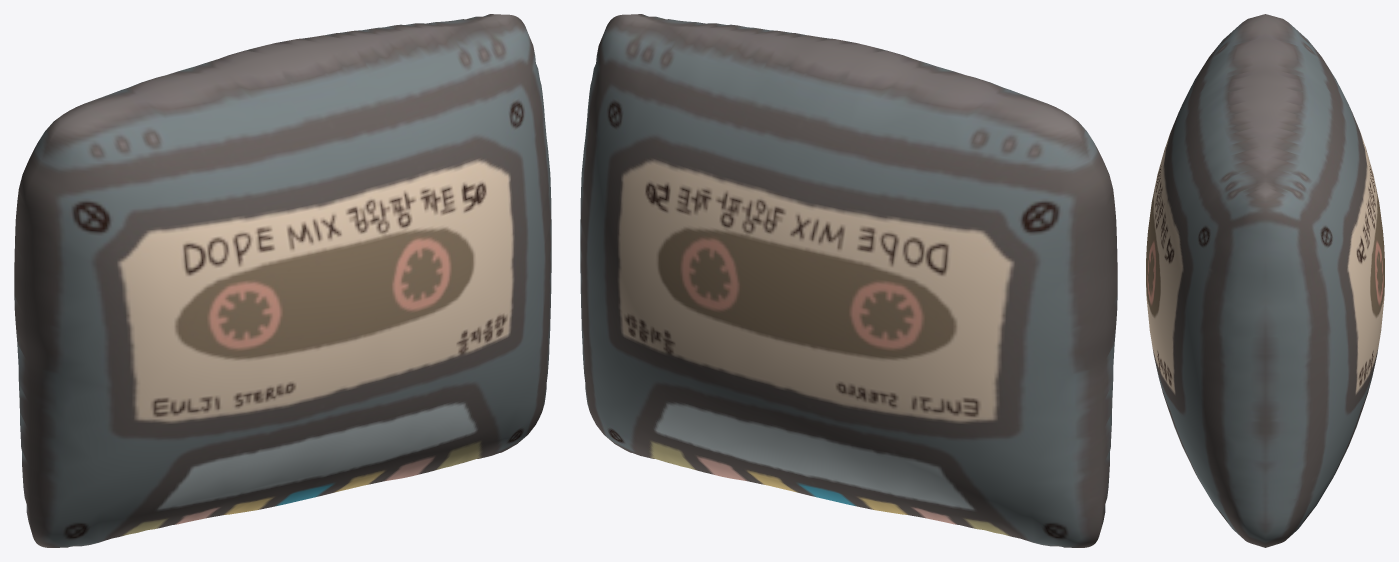
Rendered from tape.glb.
3 renders of one model, left to right at view 1: azimuth 30°, elevation 25°; view 2: azimuth 150°, elevation 25°; view 3: azimuth 270°, elevation 25°, orthographic. The views are drawn at different scales.
Parts seen in each view (by area): view 1: Mesh_0.003; view 2: Mesh_0.003; view 3: Mesh_0.003.
Boxes of the visible parts, x1=… form: Mesh_0.003: x1=14, y1=14, x2=551, y2=547; Mesh_0.003: x1=580, y1=14, x2=1117, y2=547; Mesh_0.003: x1=1146, y1=14, x2=1384, y2=547.
Bounding box in the file's own units: 155 × 130 × 75.3.
Materials: 1 (1 with a texture image).
